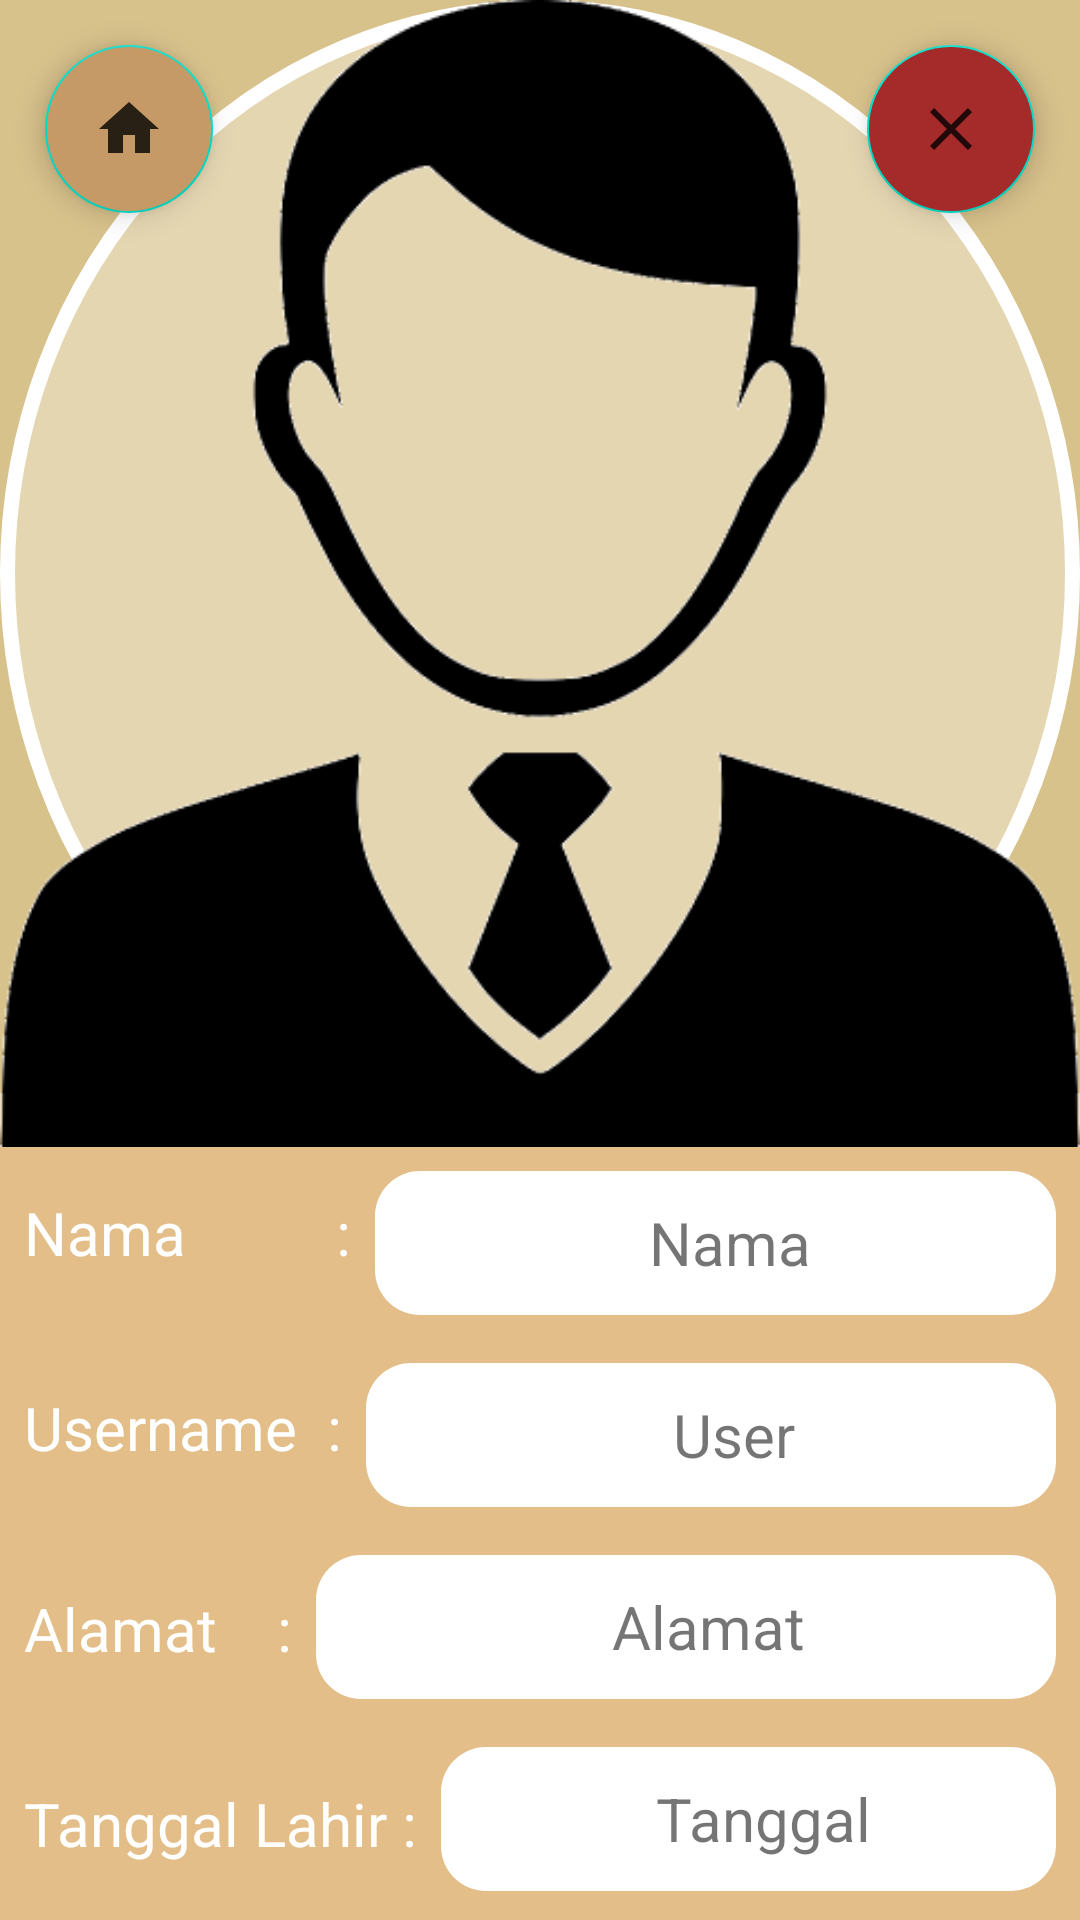

Named icons in this screenshot (1080 x 1920) and their bounding boxes, region(x1, y1, x2, y2):
gohom: region(45, 45, 213, 213)
out: region(867, 45, 1035, 213)
